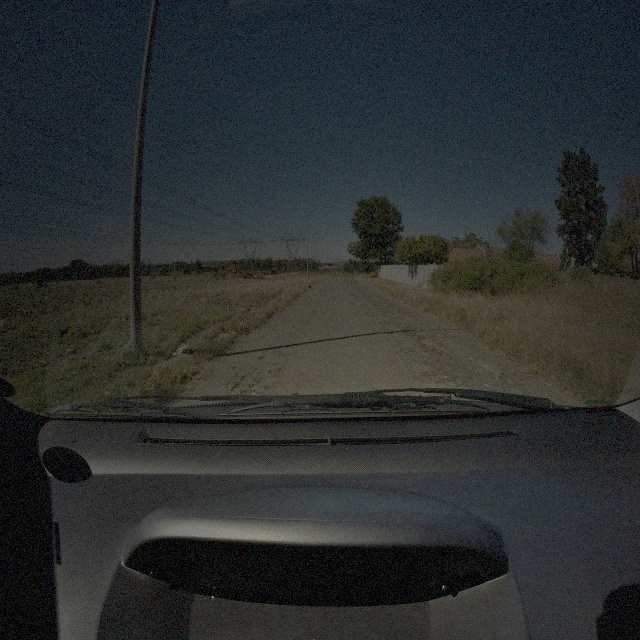pothole: (416, 329, 447, 354), (231, 374, 246, 392), (239, 387, 257, 398), (267, 368, 287, 377), (384, 310, 398, 320), (467, 354, 478, 363), (257, 352, 266, 360)
